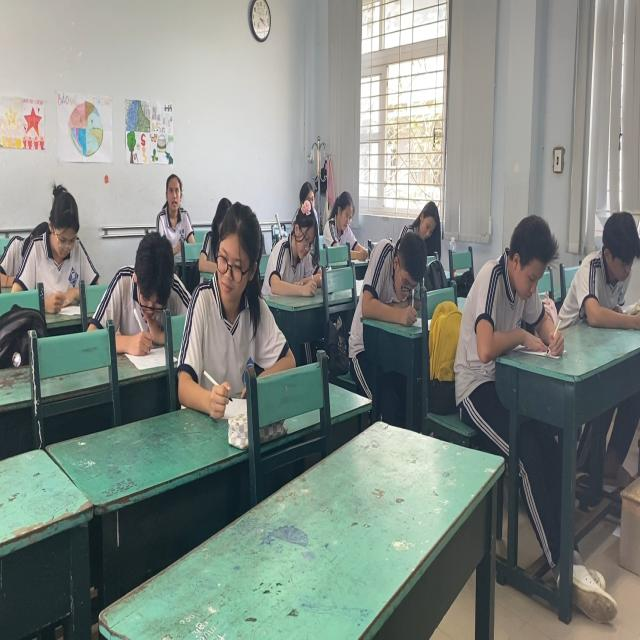cheating: (188, 197, 281, 403)
not_cheating: (466, 216, 560, 348), (114, 230, 190, 359), (567, 203, 640, 327), (31, 172, 92, 293), (365, 227, 429, 338), (266, 196, 328, 300), (149, 172, 195, 244), (322, 182, 357, 251), (414, 192, 447, 264)
